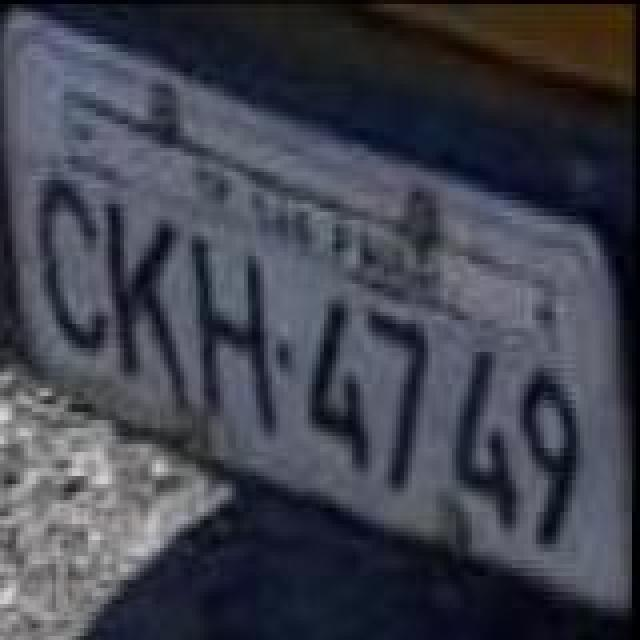4: (302, 298, 382, 482), (446, 348, 522, 540)
7: (362, 304, 434, 488)
9: (514, 372, 590, 556)
C: (28, 172, 112, 356)
H: (188, 236, 284, 444)
K: (102, 198, 194, 398)
